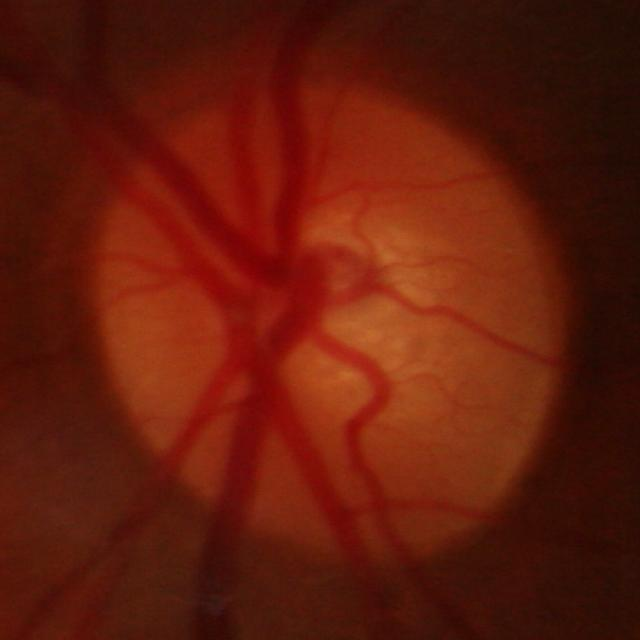OC: (292, 220, 450, 368)
OD: (85, 82, 566, 568)
